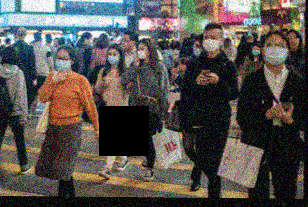with_mask: (264, 37, 285, 66), (202, 31, 220, 51), (53, 52, 70, 71), (105, 49, 119, 65), (135, 44, 148, 60), (191, 40, 203, 56), (251, 45, 261, 55), (84, 36, 93, 46), (12, 35, 19, 42)
without_mask: (286, 33, 300, 49), (120, 34, 132, 51), (177, 62, 186, 70)
